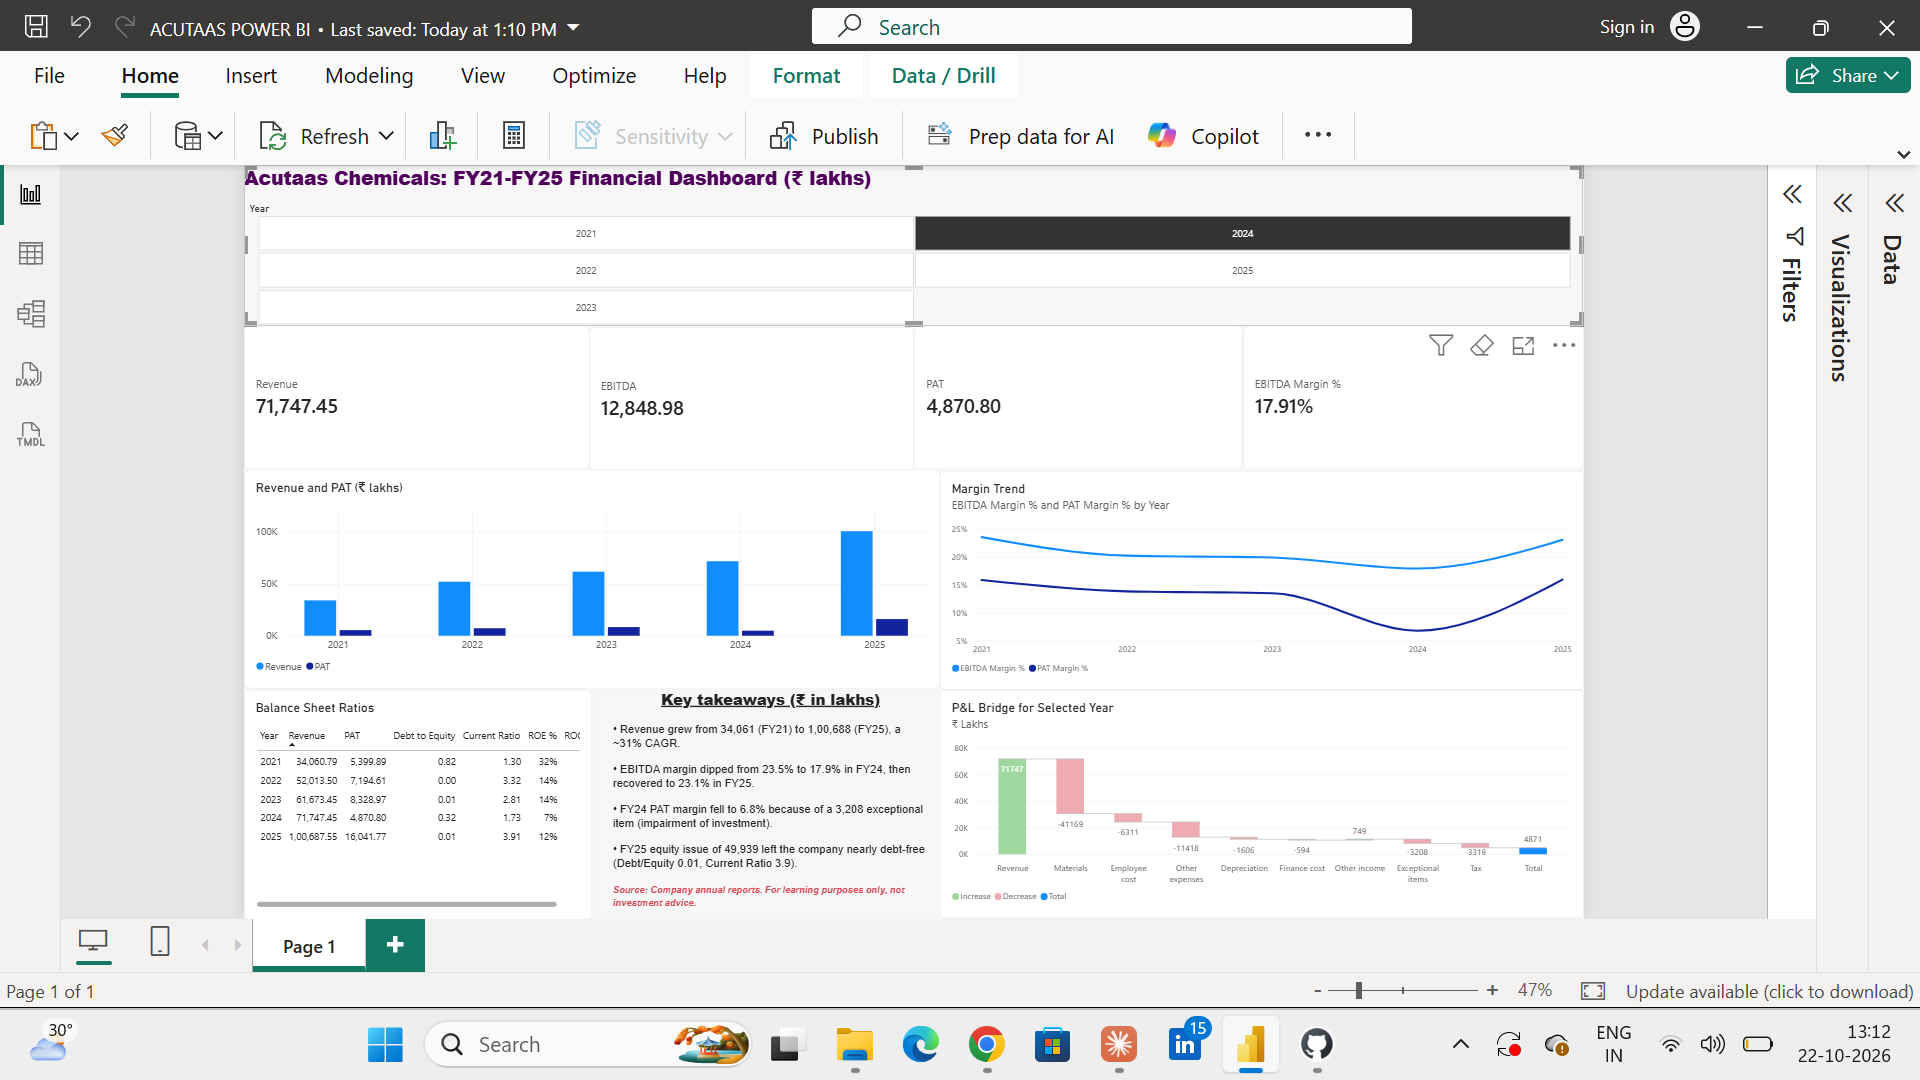

What the dashboard file says about the page in this screenshot:
{"tool":"powerbi","page":{"name":"Page 1","canvas":[1920,1080],"ordinal":0},"visuals":[{"type":"tableEx","title":"Balance Sheet Ratios","fields":{"Values":["DimYear.Year","Fact_financials.Revenue","select","Fact_financials.PAT","Fact_financials.Debt to Equity","Fact_financials.Current Ratio","Fact_financials.ROE %","Fact_financials.ROCE %"]},"box":[0,752,498.5,328.7],"z":0},{"type":"slicer","title":"Acutaas Chemicals: FY21-FY25 Financial Dashboard (₹ lakhs)","fields":{"Values":["DimYear.Year"]},"box":[0,0,1918.7,229.9],"z":1000},{"type":"cardVisual","fields":{"Data":["Fact_financials.Revenue"]},"box":[0,229.4,495.1,206.7],"z":2000},{"type":"cardVisual","fields":{"Data":["Fact_financials.EBITDA"]},"box":[495.1,231.7,465.6,206.7],"z":3000},{"type":"cardVisual","fields":{"Data":["Fact_financials.PAT"]},"box":[960.8,229.4,470.2,206.7],"z":4000},{"type":"cardVisual","fields":{"Data":["Fact_financials.EBITDA Margin %"]},"box":[1430.9,229.4,488.3,206.7],"z":5000},{"type":"clusteredColumnChart","title":"Revenue and PAT (₹ lakhs)","fields":{"Category":["DimYear.Year"],"Y":["Fact_financials.Revenue","Fact_financials.PAT"]},"box":[0,436.1,997.1,313.4],"z":6000},{"type":"lineChart","title":"Margin Trend","fields":{"Category":["DimYear.Year"],"Y":["Fact_financials.EBITDA Margin %","Fact_financials.PAT Margin %"]},"box":[997.1,438.4,922.2,313.4],"z":7000},{"type":"waterfallChart","title":"P&L Bridge for Selected Year","fields":{"Category":["WF.Item"],"Y":["Fact_financials.WF Value"]},"box":[996.9,752,921.7,326.6],"z":8000},{"type":"textbox","box":[528.6,749.9,451.2,328.7],"z":9000}]}

Visuals, with their boxes on the page's 1920x1080 design canvas (x1, y1, x2, y2). These are canvas units, not pixel positions in the 1920x1080 screenshot, which may show the page scaled, cropped or inside an application window:
"Balance Sheet Ratios" tableEx: bbox=[0, 752, 498, 1081]
"Acutaas Chemicals: FY21-FY25 Financial Dashboard (₹ lakhs)" slicer: bbox=[0, 0, 1919, 230]
cardVisual - Fact_financials.Revenue: bbox=[0, 229, 495, 436]
cardVisual - Fact_financials.EBITDA: bbox=[495, 232, 961, 438]
cardVisual - Fact_financials.PAT: bbox=[961, 229, 1431, 436]
cardVisual - Fact_financials.EBITDA Margin %: bbox=[1431, 229, 1919, 436]
"Revenue and PAT (₹ lakhs)" clusteredColumnChart: bbox=[0, 436, 997, 750]
"Margin Trend" lineChart: bbox=[997, 438, 1919, 752]
"P&L Bridge for Selected Year" waterfallChart: bbox=[997, 752, 1919, 1079]
textbox: bbox=[529, 750, 980, 1079]
